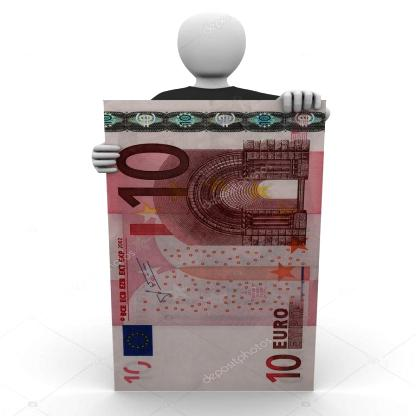euro_banknote: (70, 135, 362, 358)
